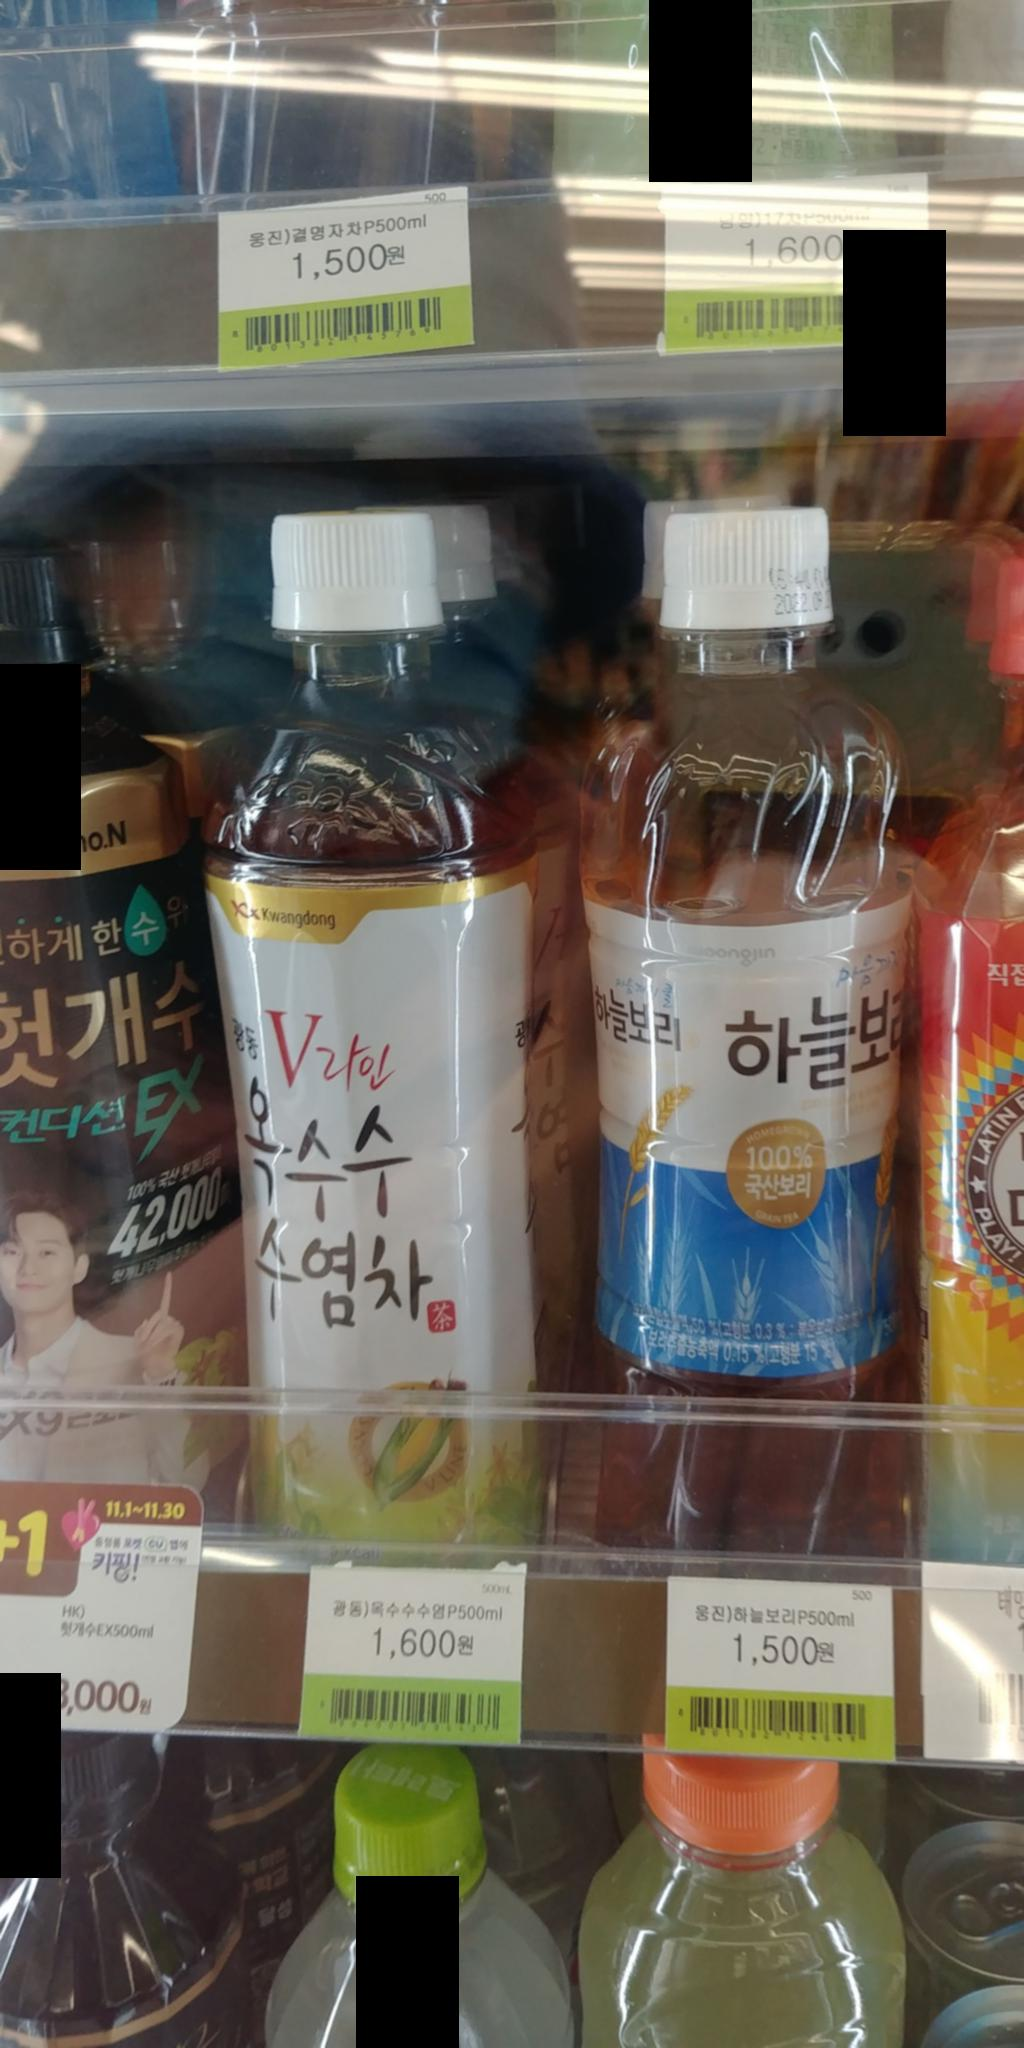haneulbori: (552, 478, 930, 1574)
oksususuyeomcha: (196, 498, 580, 1562)
